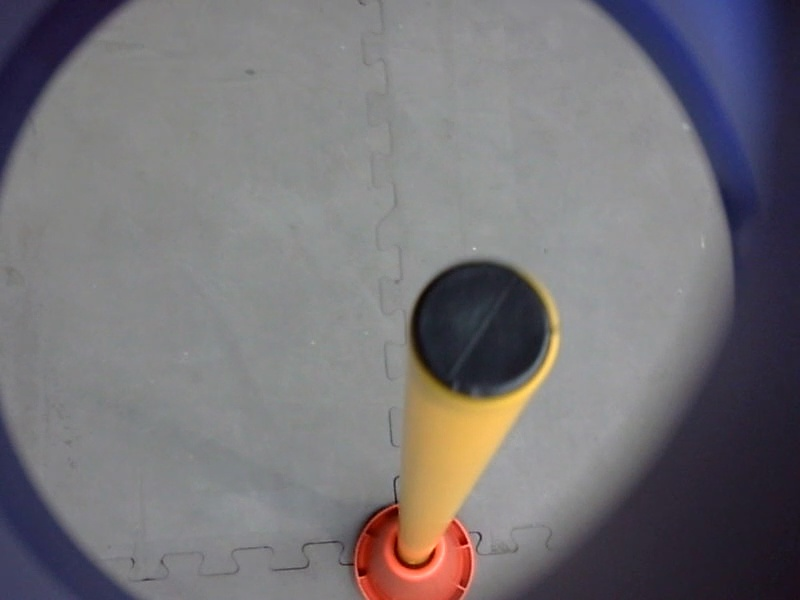tip: (398, 254, 568, 409)
